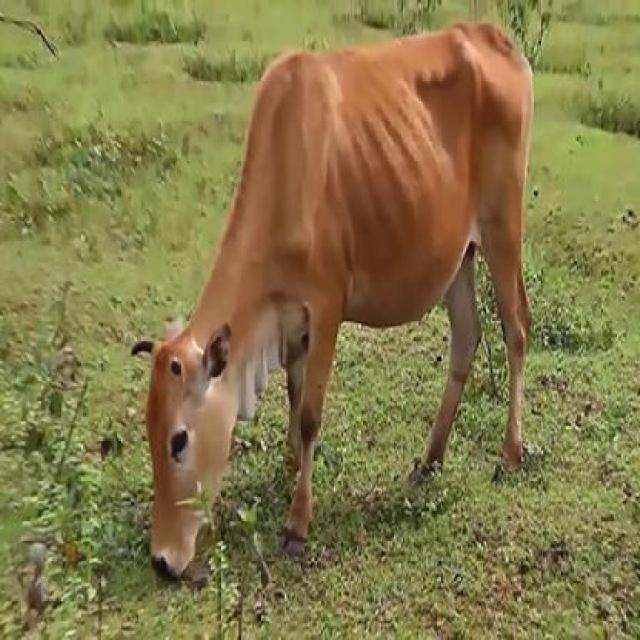Cow: (128, 14, 542, 592)
